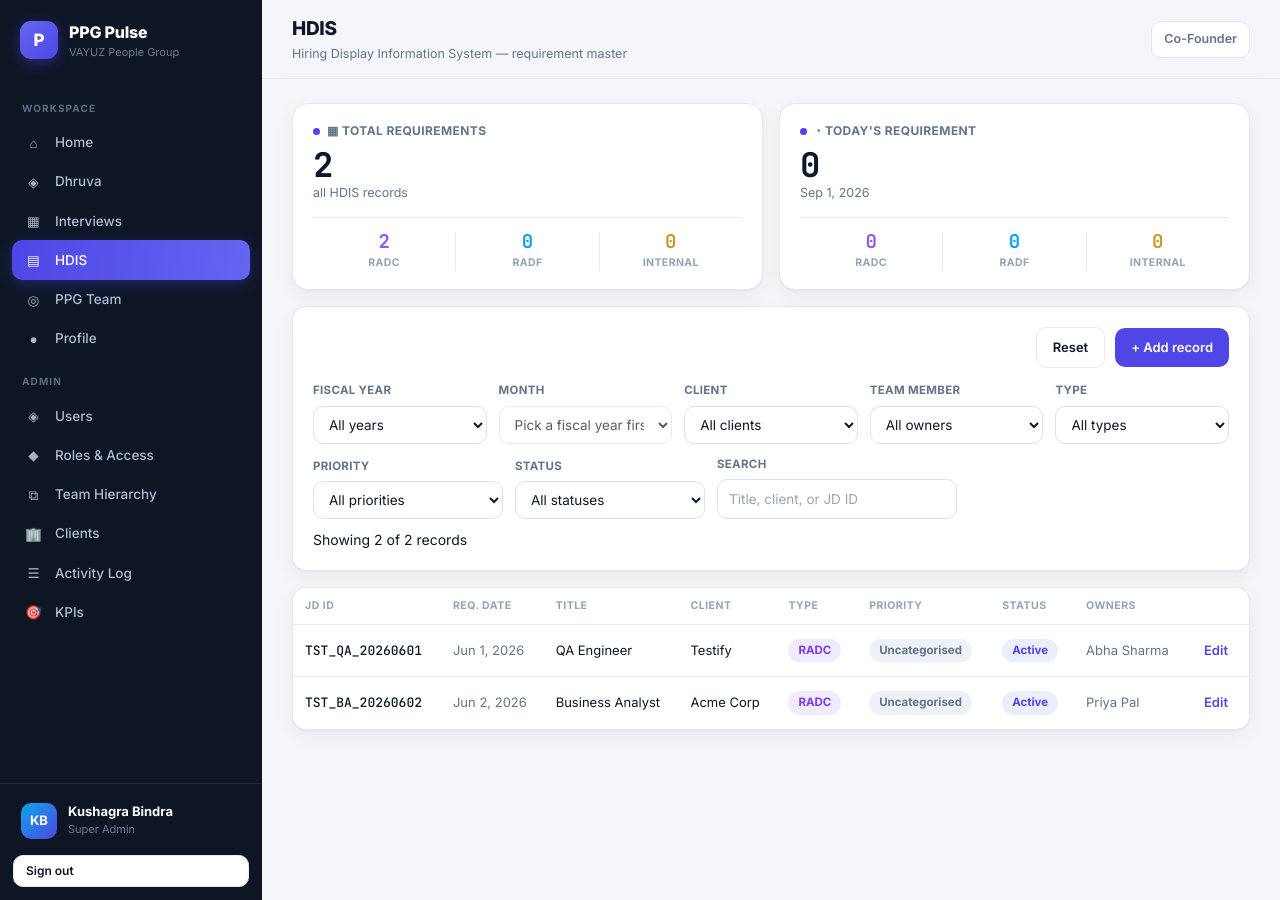
Scenario: HDIS filters › narrows the list by client and supports Reset
Expected: the text "QA Engineer" is shown, [544,624,678,677]
Expected: the text "Business Analyst" is shown, [544,677,678,729]
Select "Acme Corp" in the dropdown labelled "Client" at (771, 424), box [684,406,858,444]
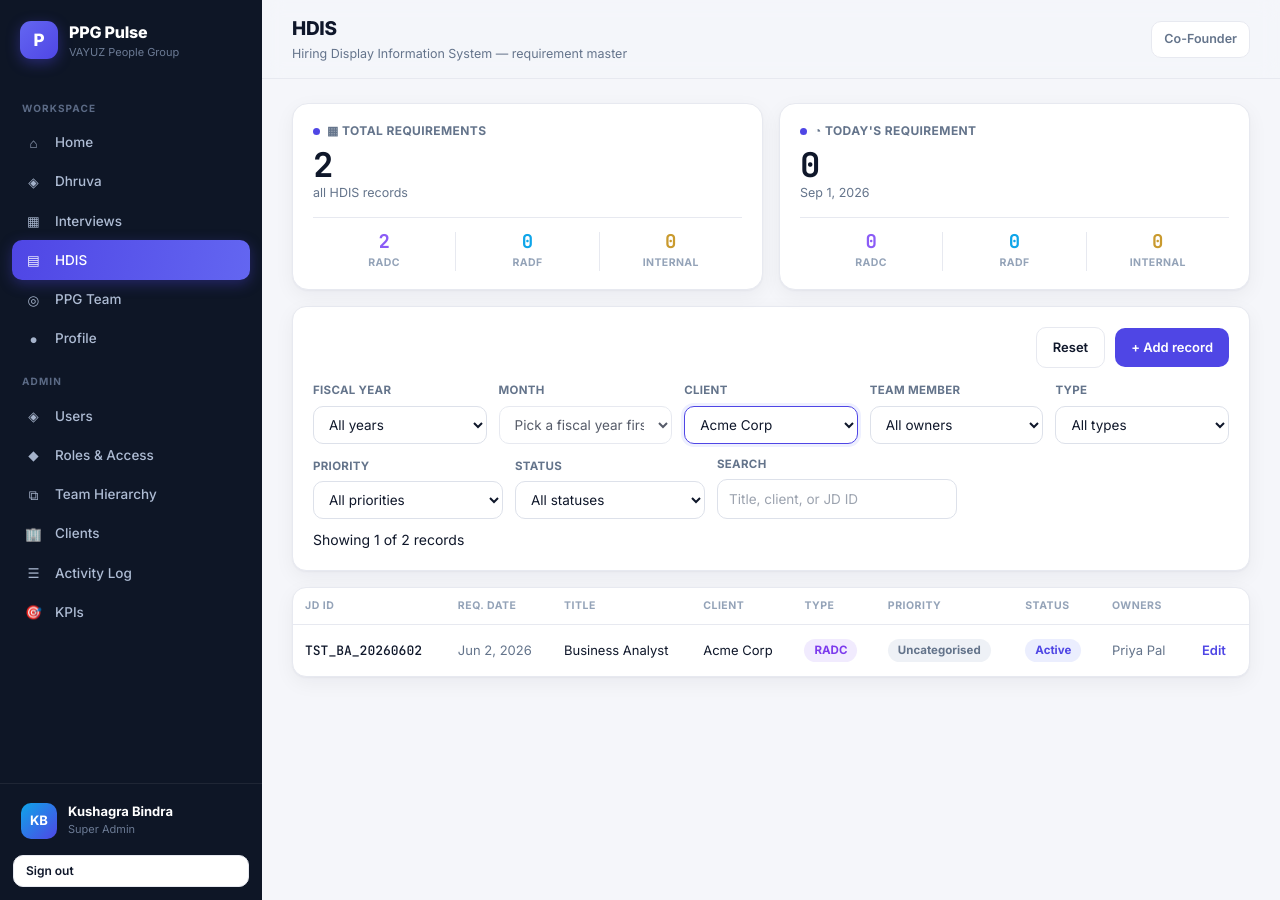
Expected: the text "Business Analyst" is shown, [552,624,691,676]
Expected: the text "QA Engineer" is gone
Expected: the text "Showing 1 of 2 records" is shown, [313,531,464,548]
Click the button "Reset" at (1070, 348), box [1036,327,1105,368]
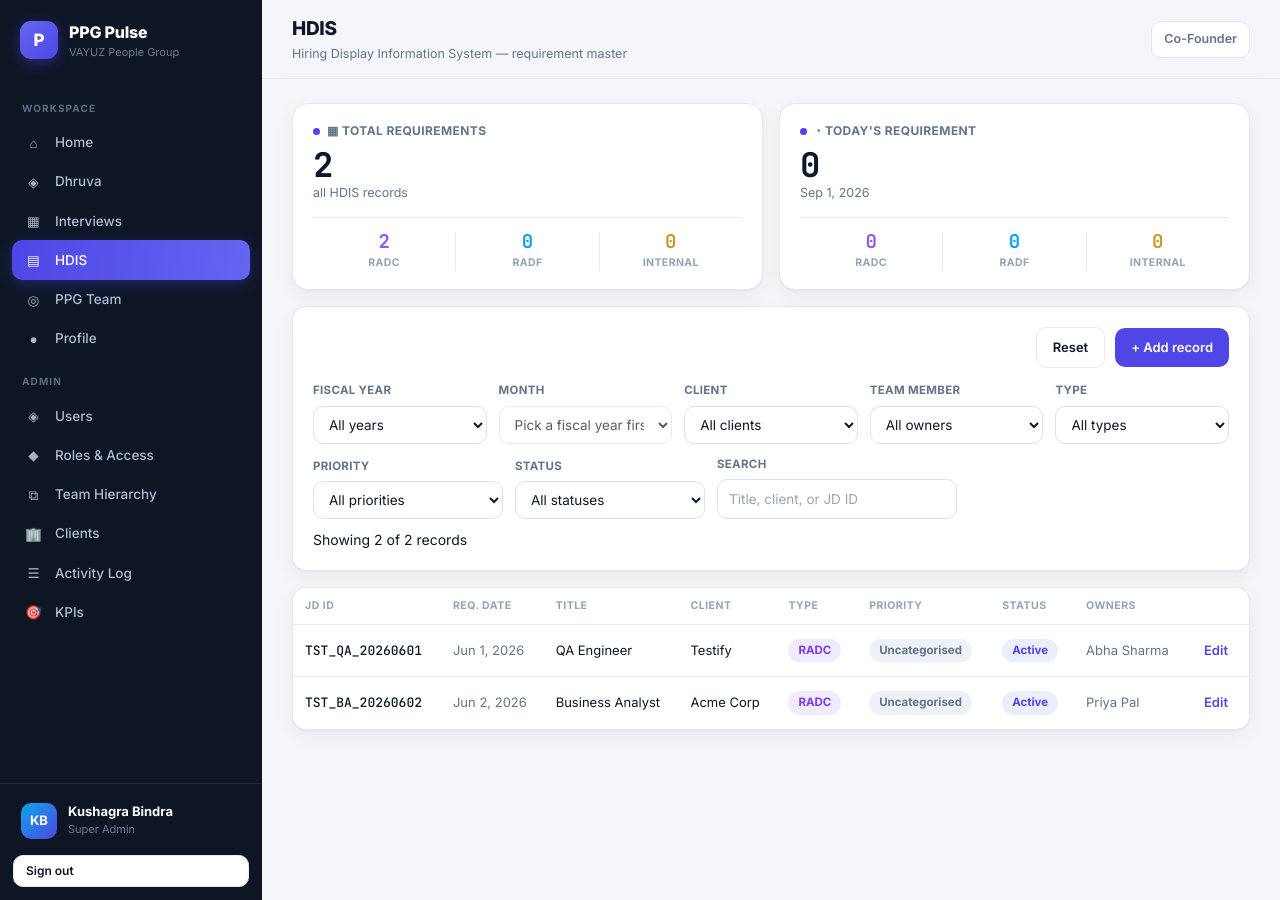
Expected: the text "Business Analyst" is shown, [544,677,678,729]
Expected: the text "QA Engineer" is shown, [544,624,678,677]
